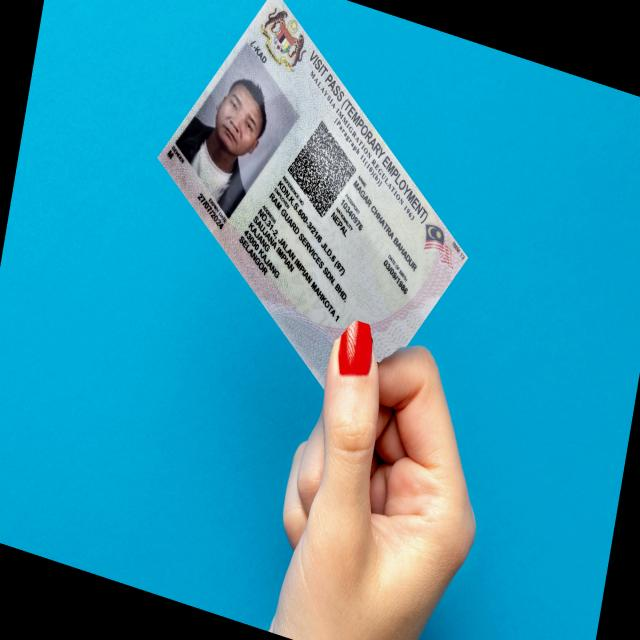ikad-temp: (157, 0, 468, 392)
